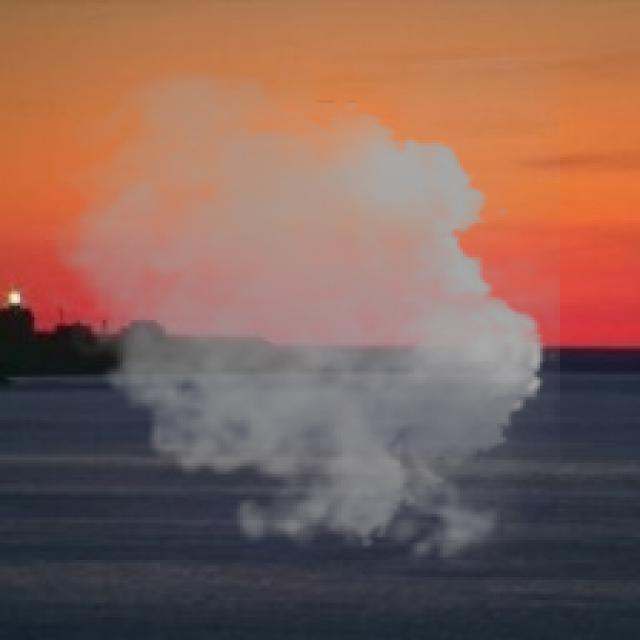smoke: (31, 57, 560, 577)
